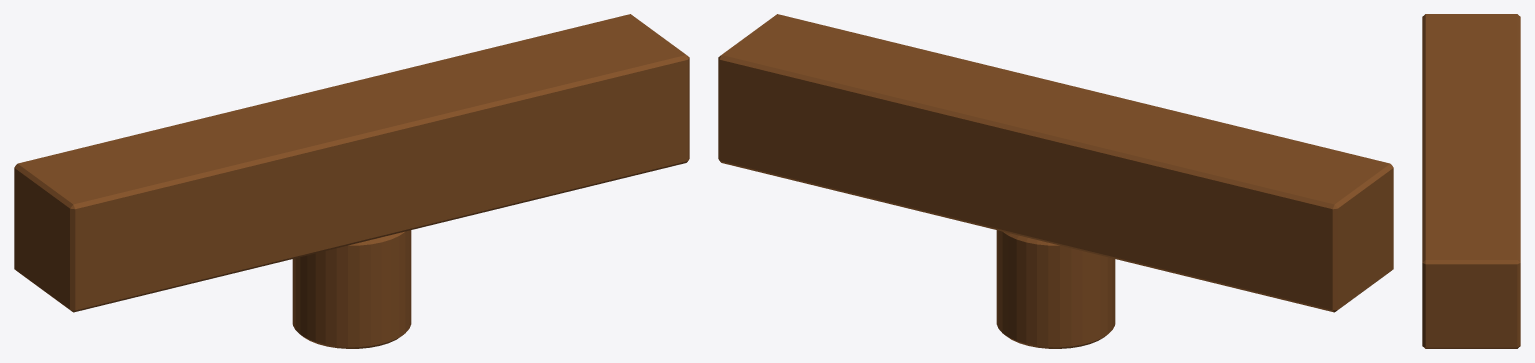
Rendered from Obstacle.fbx.
3 renders of one model, left to right at view 1: azimuth 30°, elevation 25°; view 2: azimuth 150°, elevation 25°; view 3: azimuth 270°, elevation 25°, orthographic. The views are drawn at different scales.
Visible parts, largest first — view 1: Obstacle, Stand; view 2: Obstacle, Stand; view 3: Obstacle.
Boxes of the visible parts, box(x1,y1,x2,y2) form: Obstacle: box(14, 14, 689, 312); Stand: box(292, 230, 411, 348); Obstacle: box(718, 14, 1393, 312); Stand: box(996, 230, 1115, 348); Obstacle: box(1422, 14, 1520, 348).
Bounding box in the file's own units: 600 × 200 × 100.
Materials: 1 (1 with a texture image).
